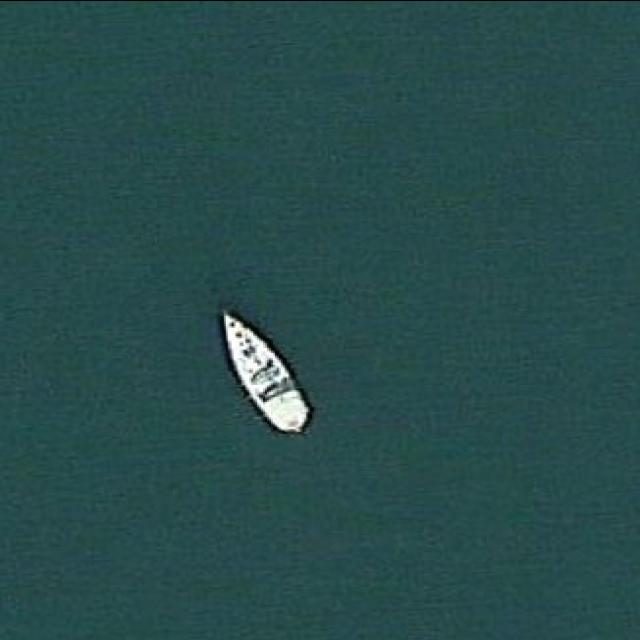ship: (220, 310, 308, 434)
